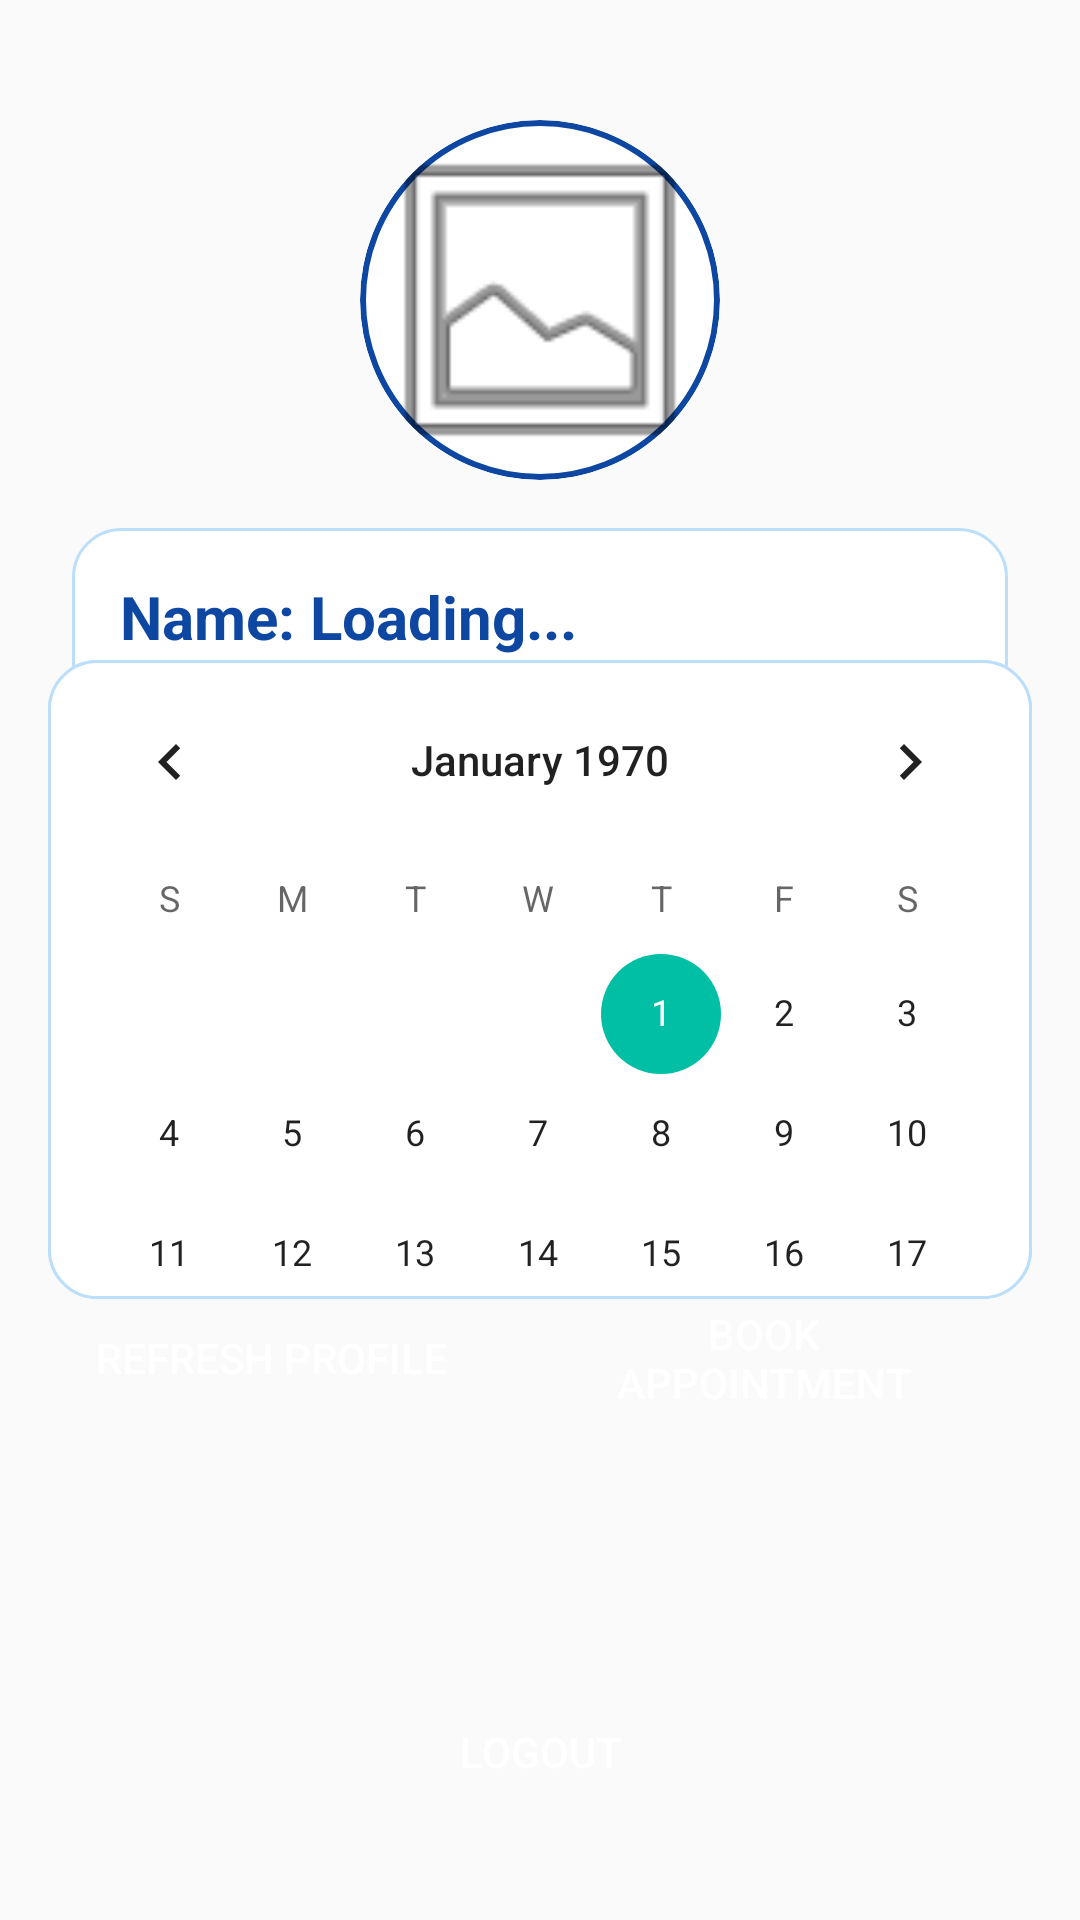

Locate icon controls on the screen. Image size 1080px×1920px, boxes as [left=x1, top=y1, right=x2, bottom=y2].
gallery: [left=360, top=120, right=720, bottom=480]
